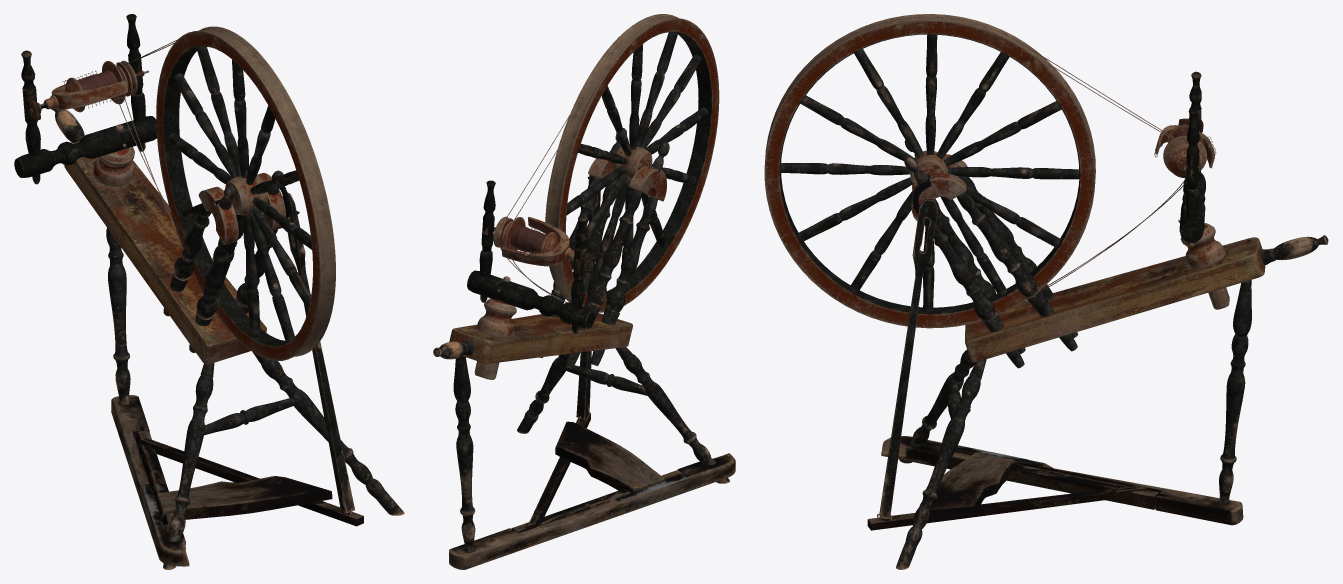
File: spinning_wheel_01.glb
3 views of the same model, side by side, from view 1: azimuth 30°, elevation 25°; view 2: azimuth 150°, elevation 25°; view 3: azimuth 270°, elevation 25° (orthographic). The views are drawn at different scales.
Parts seen in each view (by area): view 1: spinning_wheel_01; view 2: spinning_wheel_01; view 3: spinning_wheel_01.
Part boxes in pixels (x1,y1,x2,y2): spinning_wheel_01: (14, 14, 404, 569); spinning_wheel_01: (433, 14, 735, 569); spinning_wheel_01: (764, 14, 1328, 569).
Size of the model in its own units: 0.4894 by 0.9662 by 1.02.
1 material, 1 textured.
